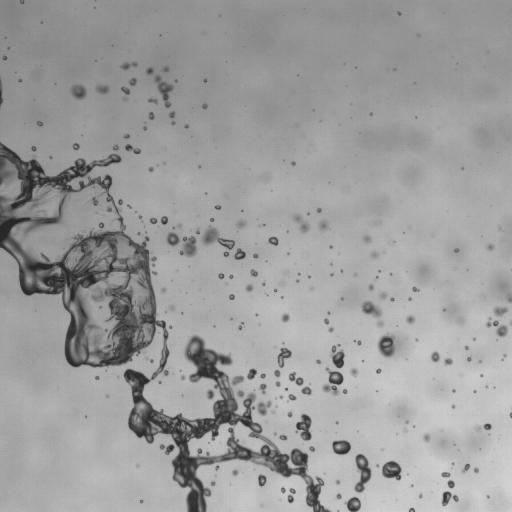droplet: (202, 226, 234, 249), (322, 367, 343, 395), (295, 413, 311, 441), (376, 333, 394, 357), (381, 460, 401, 480), (179, 236, 196, 257), (330, 344, 344, 368), (277, 348, 291, 367), (332, 440, 351, 454), (441, 491, 458, 506), (70, 84, 86, 99), (345, 497, 360, 511), (166, 232, 180, 246), (288, 372, 303, 385), (493, 306, 507, 316), (234, 248, 245, 259), (318, 221, 329, 231), (96, 85, 109, 93), (258, 474, 266, 486), (268, 236, 278, 245), (301, 386, 311, 395), (431, 351, 439, 362), (121, 86, 130, 94), (91, 196, 99, 205), (236, 220, 245, 228), (281, 313, 289, 322), (406, 314, 414, 323), (259, 383, 266, 393), (371, 251, 379, 259), (350, 367, 357, 376), (482, 423, 491, 430), (245, 284, 253, 291), (379, 292, 387, 299), (444, 358, 452, 365), (423, 433, 430, 441), (462, 464, 469, 472), (447, 480, 454, 488), (441, 472, 450, 478), (146, 67, 153, 74), (129, 78, 136, 85), (363, 235, 370, 242), (250, 269, 257, 276), (161, 216, 167, 224), (486, 244, 494, 250), (274, 369, 280, 377), (288, 394, 296, 400), (148, 98, 157, 103), (148, 112, 154, 119), (149, 218, 157, 223), (73, 143, 79, 149), (232, 469, 238, 475), (238, 322, 243, 329), (279, 435, 286, 440), (507, 294, 511, 302), (169, 111, 174, 117), (36, 121, 42, 126), (218, 273, 224, 278), (368, 284, 373, 290), (412, 287, 418, 292), (324, 318, 329, 324), (355, 340, 361, 345), (287, 411, 292, 417), (280, 487, 285, 493), (336, 493, 341, 499), (214, 205, 221, 209), (408, 507, 415, 511), (253, 253, 258, 258), (229, 294, 234, 299), (328, 327, 333, 332), (260, 373, 265, 378), (275, 381, 280, 386), (309, 446, 314, 451), (163, 67, 168, 71), (202, 104, 207, 108), (124, 134, 129, 138), (113, 145, 118, 149), (31, 146, 36, 150), (148, 167, 153, 171), (263, 174, 267, 179), (454, 248, 459, 252), (223, 252, 228, 256), (459, 319, 464, 323), (376, 369, 381, 373), (181, 375, 185, 380), (474, 468, 478, 473), (210, 481, 215, 485), (184, 124, 188, 128), (291, 161, 295, 165), (317, 208, 321, 212), (229, 274, 233, 278), (161, 288, 165, 292), (390, 297, 394, 301), (170, 306, 174, 310), (467, 357, 471, 361), (316, 359, 320, 363), (343, 389, 347, 393), (403, 428, 407, 432), (196, 229, 199, 233), (464, 346, 468, 349), (271, 410, 275, 413), (336, 480, 339, 484), (509, 320, 511, 325), (3, 56, 6, 59), (171, 121, 174, 124), (143, 127, 146, 130), (178, 224, 181, 227), (274, 289, 277, 292), (502, 355, 505, 358), (150, 359, 153, 362), (95, 376, 98, 379), (279, 395, 282, 398), (451, 405, 454, 408), (419, 494, 422, 497), (99, 305, 101, 309), (20, 0, 23, 2), (397, 12, 400, 14), (139, 215, 141, 218), (211, 218, 213, 221), (262, 283, 265, 285), (169, 326, 172, 328), (480, 374, 483, 376), (453, 389, 455, 392), (486, 495, 489, 497), (19, 79, 21, 81), (204, 79, 206, 81), (124, 98, 126, 100), (128, 205, 130, 207), (255, 313, 257, 315), (376, 465, 378, 467)
ligament: (0, 143, 331, 511), (354, 454, 371, 492), (154, 75, 173, 107), (361, 301, 383, 327), (486, 318, 507, 337), (293, 214, 309, 233), (125, 144, 140, 153), (287, 488, 295, 503), (121, 62, 137, 69), (0, 78, 3, 106), (509, 412, 511, 417)
